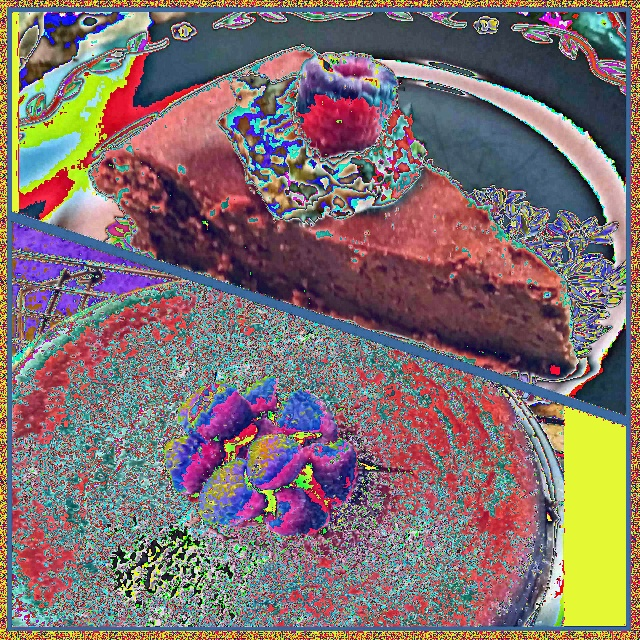background: (12, 282, 559, 626), (89, 44, 579, 380)
